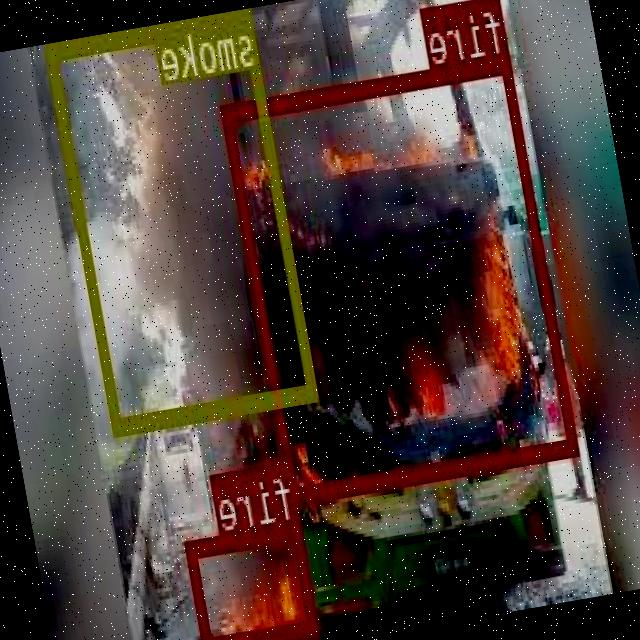fire: (222, 52, 580, 501), (185, 516, 320, 640)
smoke: (46, 8, 318, 430)
